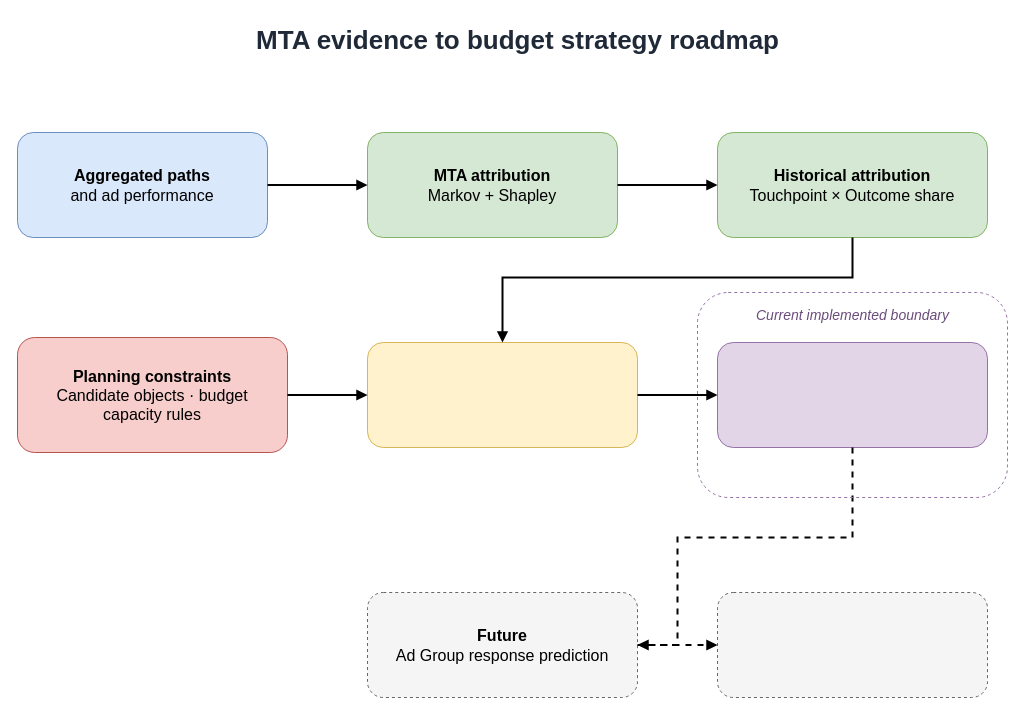
Image size: 1025x715. Some labels were removed from this diagram. The centre of each missing label's shape, as x and y in pixels:
"Campaign evidence Entity Bridge + Campaign score" goes at point (502, 395).
"Future Constrained budget optimization" goes at point (852, 645).
"Initial strategy Ad Group count + initial budget" goes at point (852, 395).
